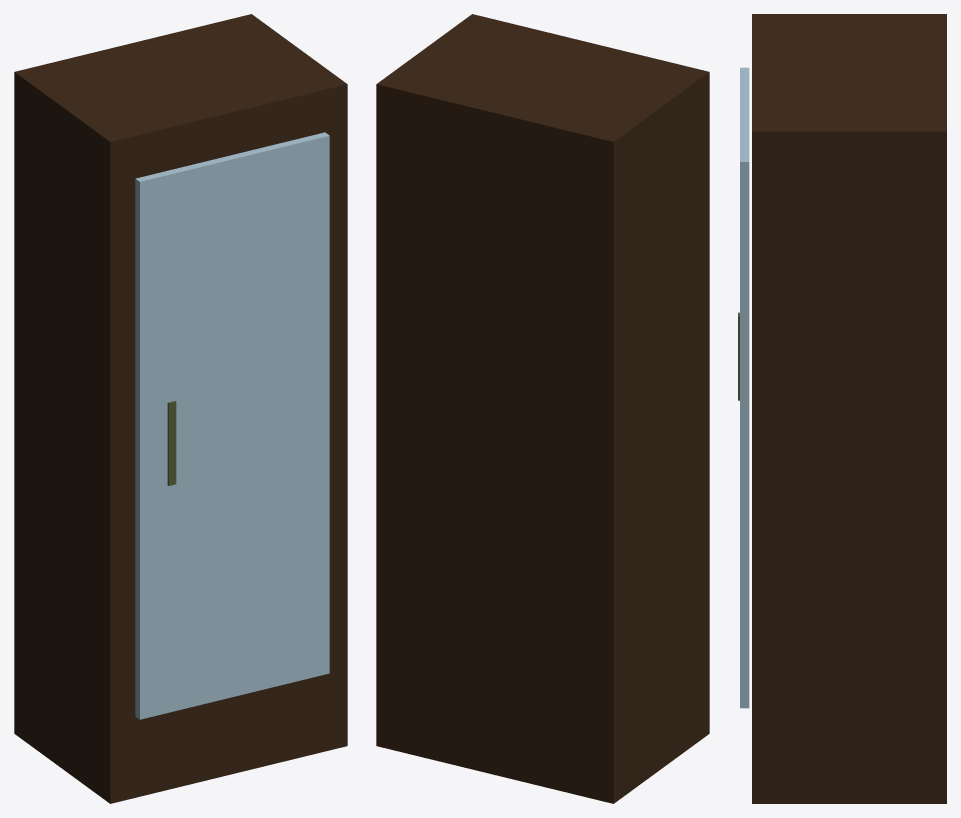
File: winecabinet-lite.glb
3 renders of one model, left to right at view 1: azimuth 30°, elevation 25°; view 2: azimuth 150°, elevation 25°; view 3: azimuth 270°, elevation 25°, orthographic.
Parts seen in each view (by area): view 1: material-0-body, material-1-glass, material-2-metal; view 2: material-0-body; view 3: material-0-body, material-1-glass.
Part boxes in pixels (<box>): material-0-body: <box>14,14,347,803</box>; material-1-glass: <box>135,132,329,719</box>; material-2-metal: <box>167,401,176,485</box>; material-0-body: <box>376,14,709,803</box>; material-0-body: <box>752,14,946,803</box>; material-1-glass: <box>740,67,749,708</box>.
Bounding box in the file's own units: 0.6 × 1.6 × 0.45.
